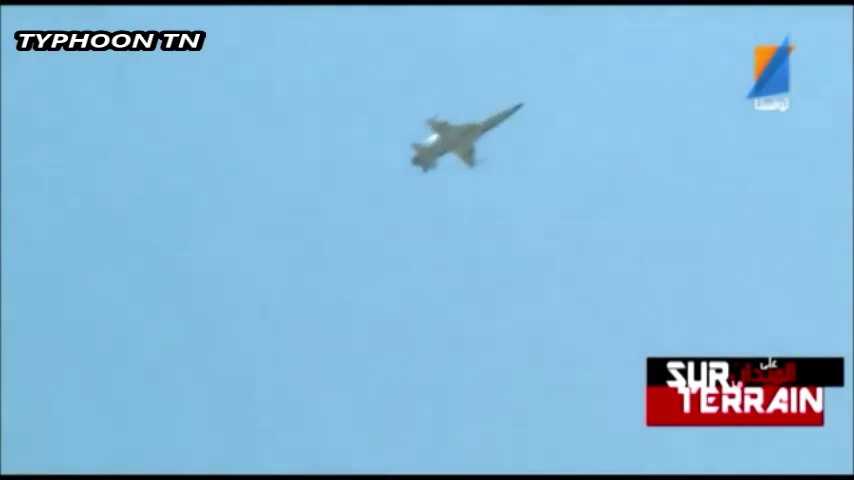Airplane: (406, 101, 526, 176)
